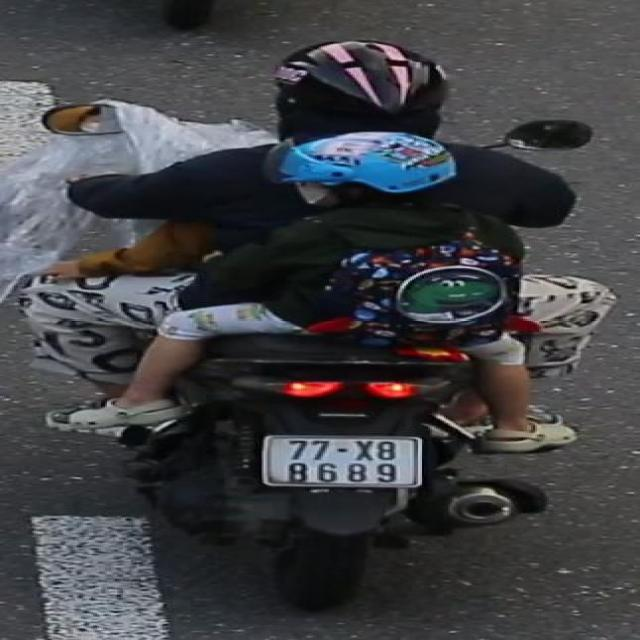LP: (254, 433, 428, 495)
helmet: (262, 34, 462, 150), (289, 126, 468, 223)
